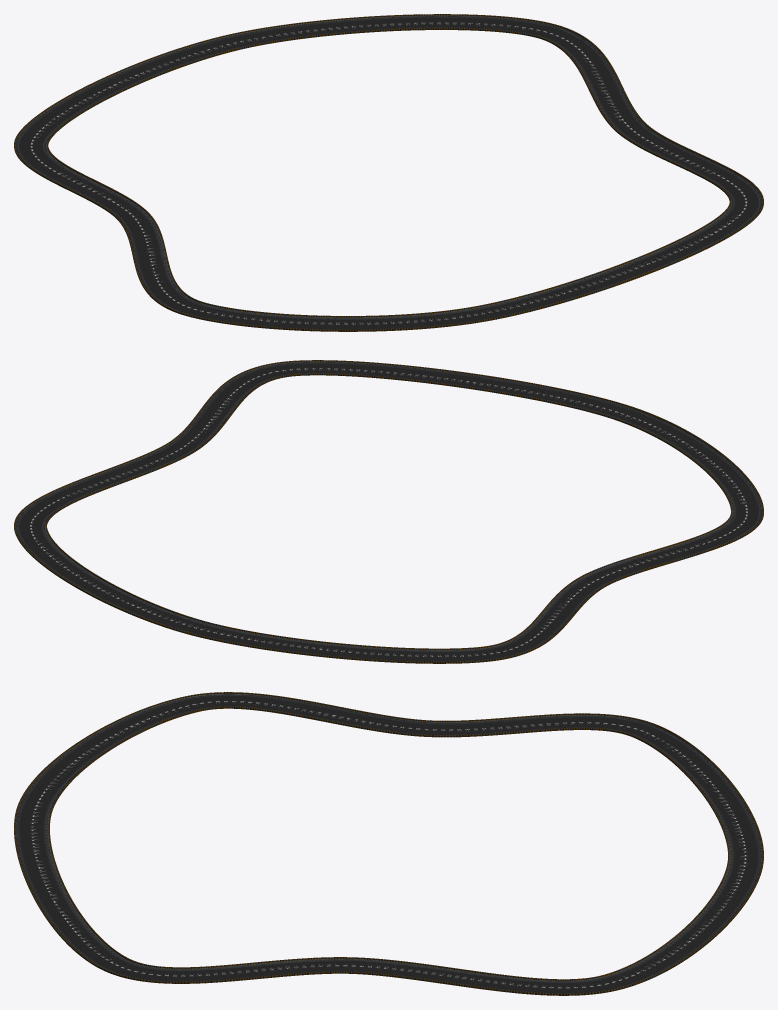
Rendered from track7.obj.
3 renders of one model, top to bottom at view 1: azimuth 30°, elevation 25°; view 2: azimuth 150°, elevation 25°; view 3: azimuth 270°, elevation 25°, orthographic. The views are drawn at different scales.
Visible parts, largest first — view 1: Track01_0; view 2: Track01_0; view 3: Track01_0.
Part boxes in pixels (x1,y1,x2,y2): Track01_0: (14, 14, 763, 331); Track01_0: (14, 360, 763, 663); Track01_0: (14, 692, 763, 995).
Size of the model in its own units: 1048 by 2.51 by 1099.
1 material, 1 textured.
